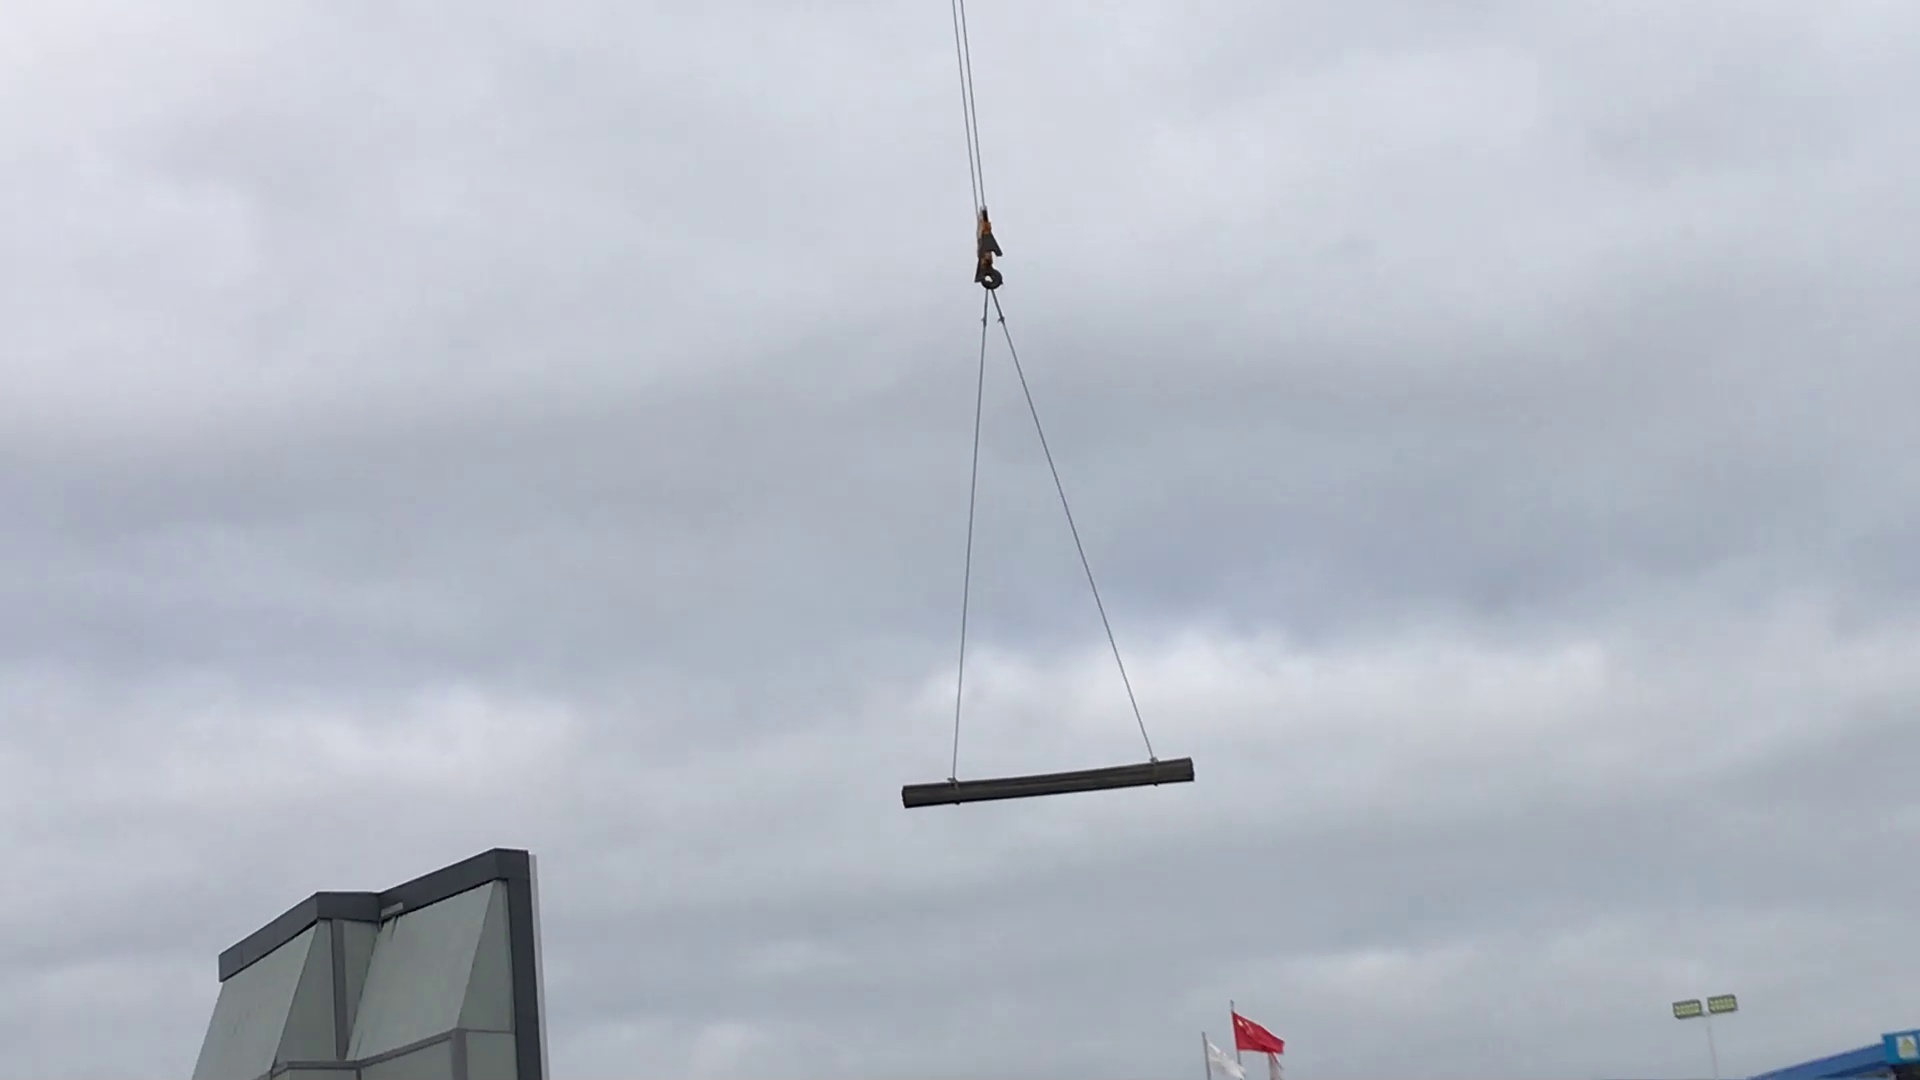rebar: (897, 757, 1197, 824)
